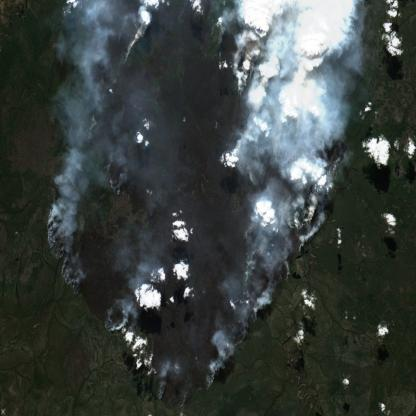fire: (44, 0, 343, 416)
